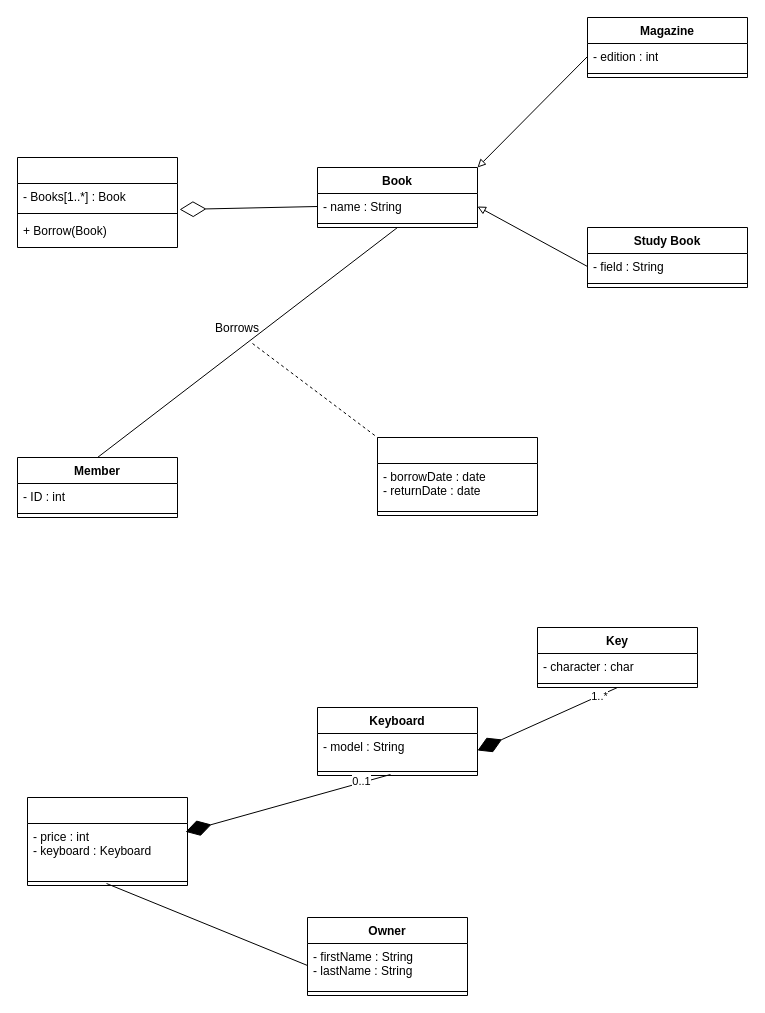
Some shapes in this 765 by 1013 pixel diagram are drawn without their labels. The box of each missing label's shape, as (x1, y1, x2, y2) in pixels:
Laptop: (26, 796, 188, 886)
Library: (16, 156, 178, 248)
Record: (376, 436, 538, 516)
